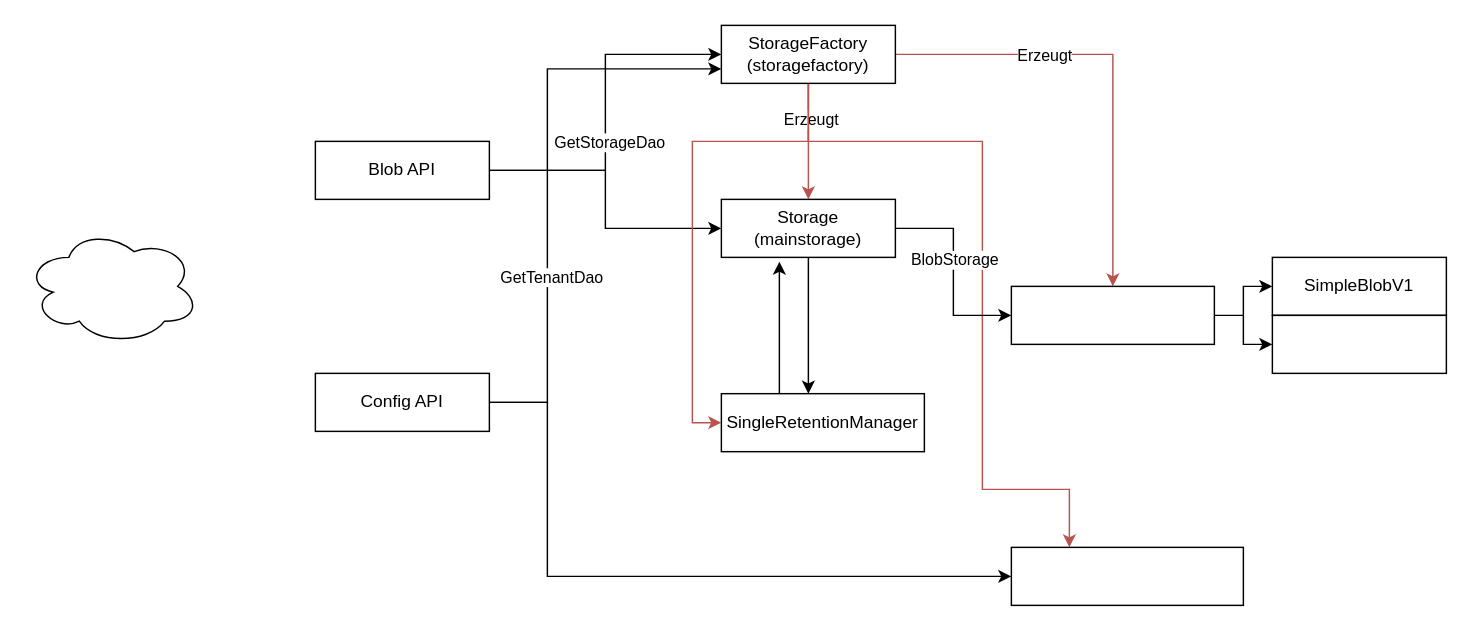
The diagram is 1472 pixels wide and 631 high, and some of its shapes have lost their labels. The box of each missing label's shape, as (x1, y1, x2, y2) in pixels:
SimpleBlobV2: (1271, 314, 1446, 373)
SimpleFileBlobStorage: (1010, 285, 1214, 344)
SimpleFileTenantManager: (1010, 546, 1243, 605)
